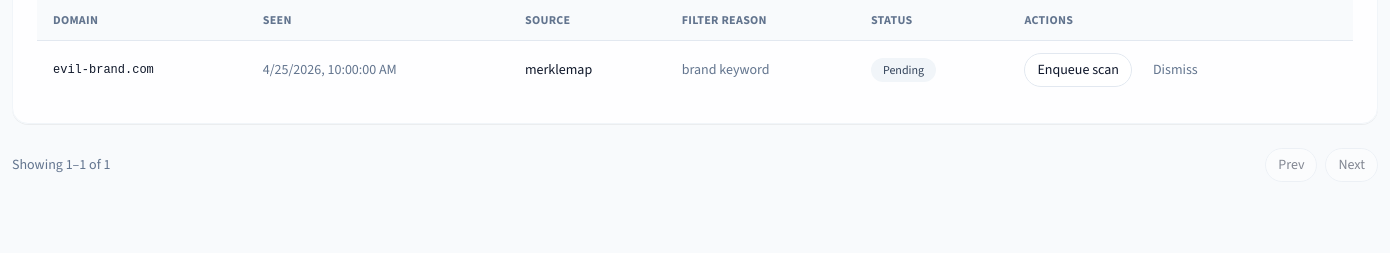
DiscoveriesExplorer › dismiss flow surfaces 422 inline when reason exceeds 500 chars (server-rejected)
The image size is (1390, 253).
Click the button "Dismiss": [1175, 70] box [1140,53,1211,87]
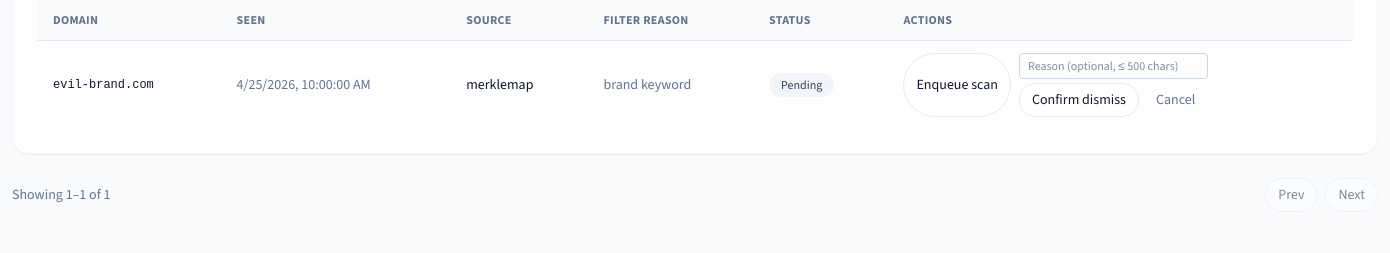
Click the button "Confirm dismiss": [1079, 100] box [1019,83,1139,117]
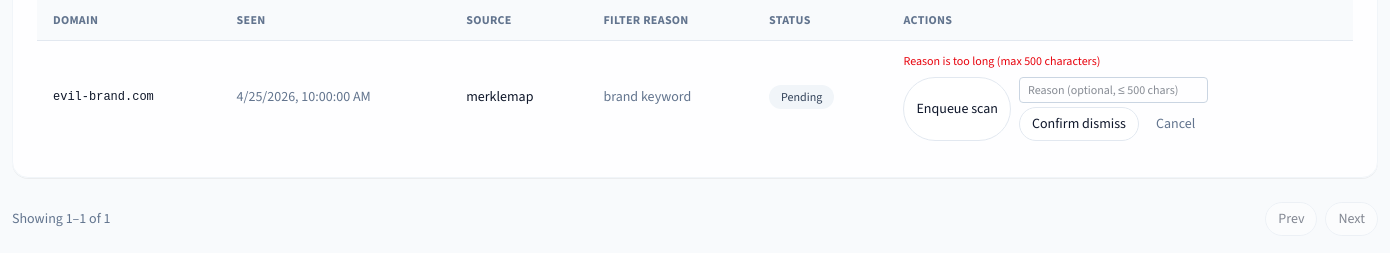
Result: the text "Reason is too long (max 500 characters)" is shown at [904,53,1100,69]
